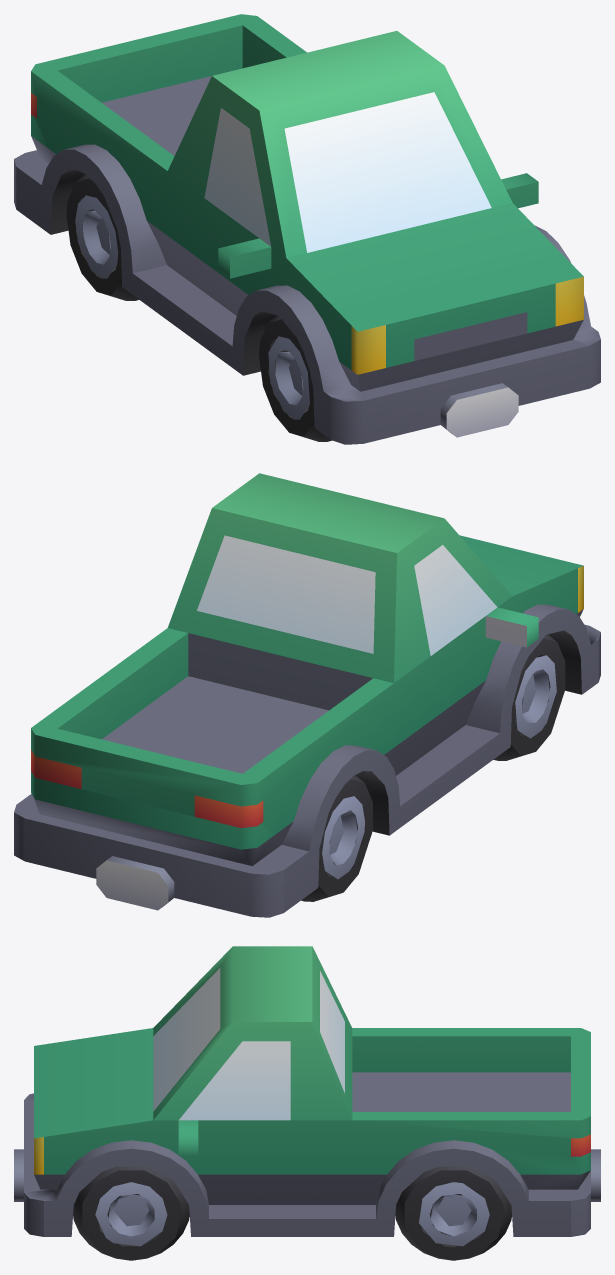
File: truck.glb
3 views of the same model, one above another, from view 1: azimuth 30°, elevation 25°; view 2: azimuth 150°, elevation 25°; view 3: azimuth 270°, elevation 25° (orthographic). The views are drawn at different scales.
Visible parts, largest first — view 1: body; view 2: body; view 3: body.
Part boxes in pixels (left/top/right/bottom): body: left=14, top=14, right=600, bottom=444; body: left=14, top=473, right=600, bottom=917; body: left=14, top=946, right=600, bottom=1260.
Bounding box in the file's own units: 2.25 × 1.95 × 4.42.
1 material, 1 textured.
